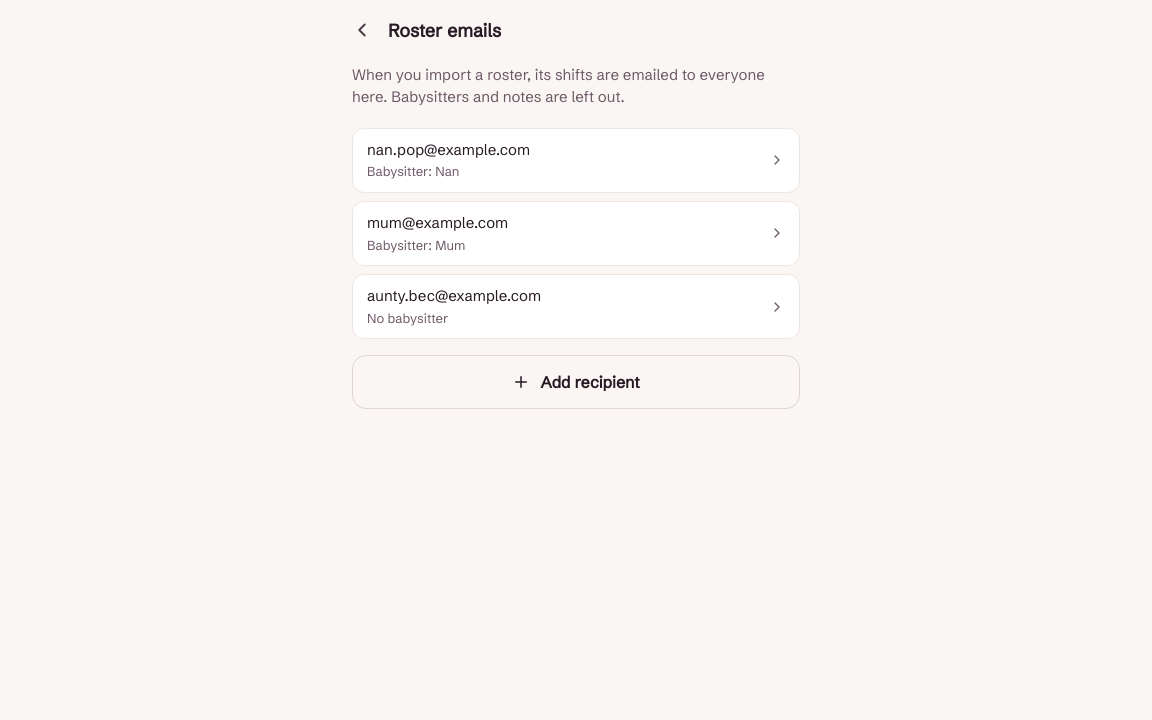
Test: Roster emails screen › keeps the sheet open with the error when the save fails
Expected: the heading "Roster emails" is shown, x1=388 y1=16 x2=501 y2=44
Click the button with aria-label "mum@example.com, babysitter Mum": (438, 222) x1=352 y1=201 x2=800 y2=266
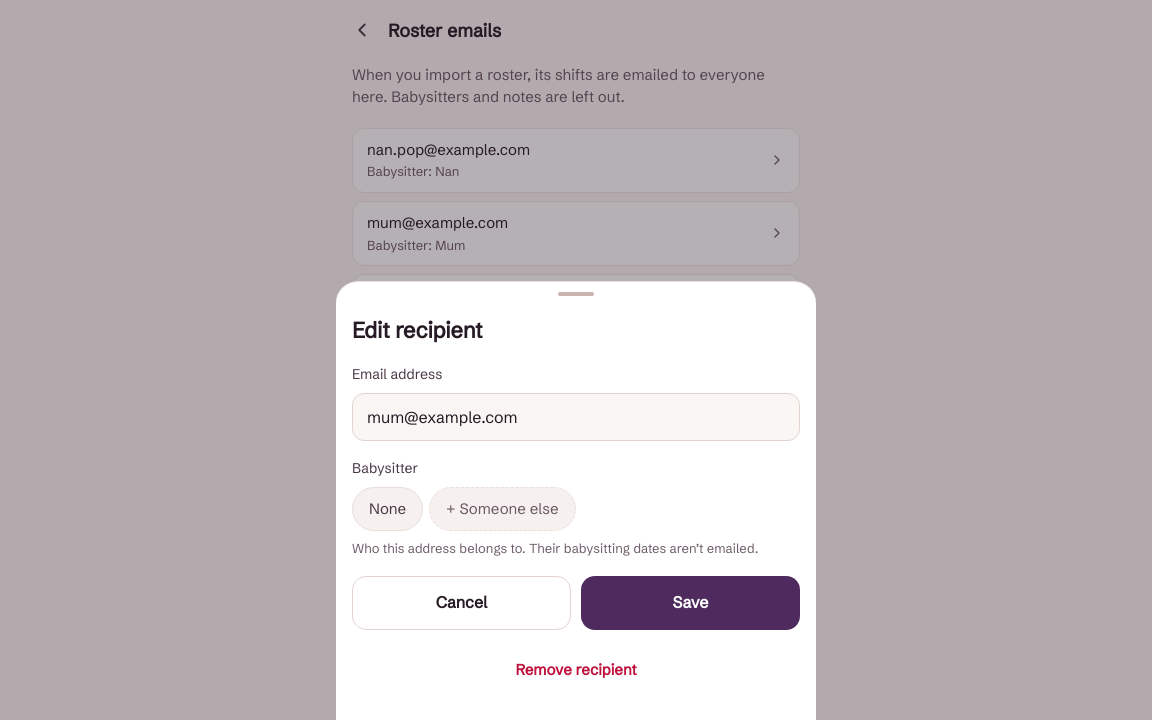
Expected: the dialog is shown, x1=336 y1=281 x2=816 y2=719
Click the radio button labelled "None": (388, 508) x1=352 y1=486 x2=423 y2=530
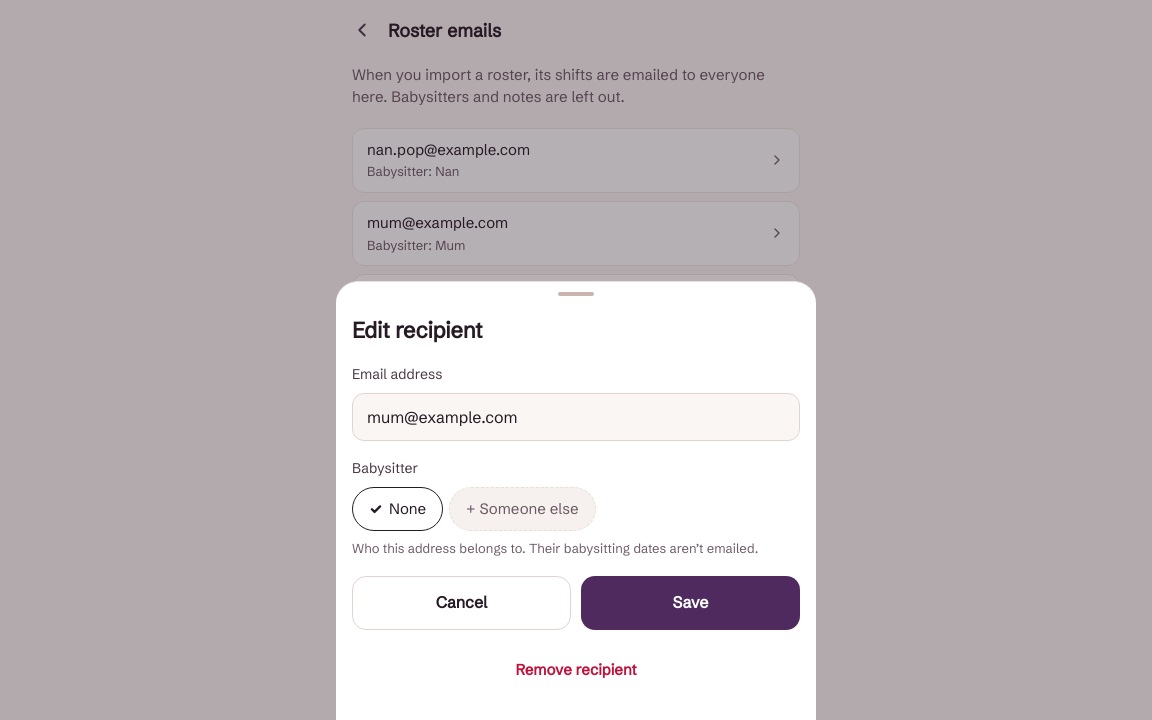
Click the button "Save": (690, 603) x1=581 y1=576 x2=800 y2=630
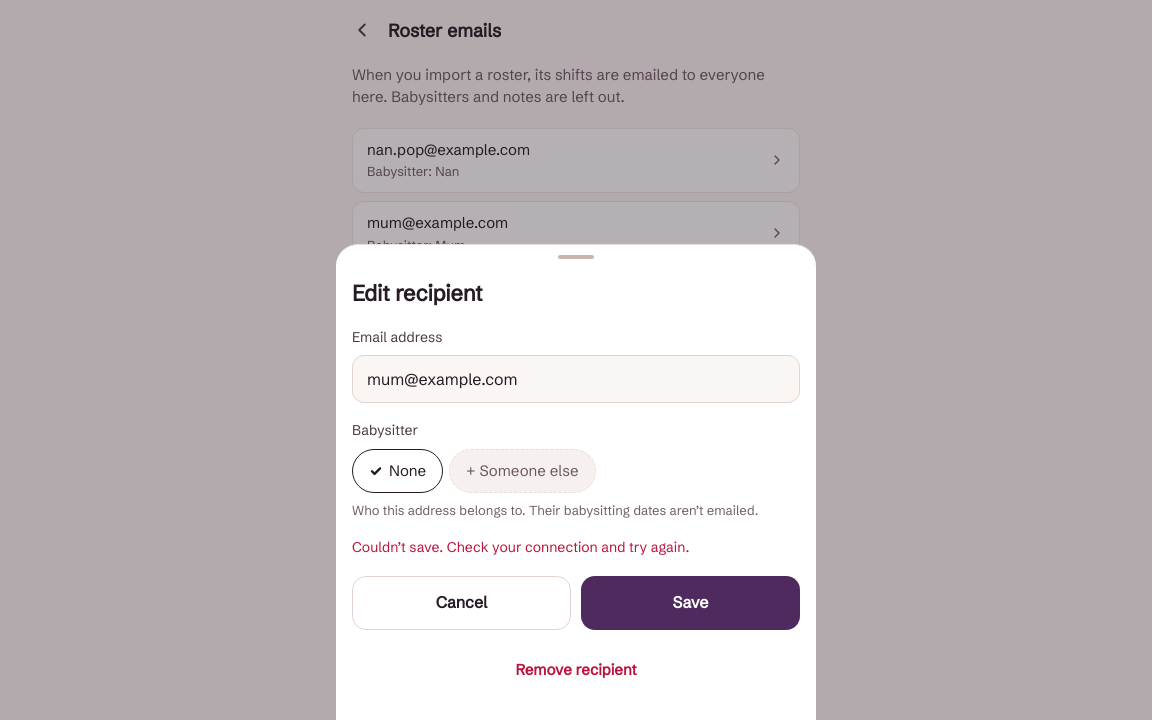
Expected: the button "Save" is enabled, x1=581 y1=576 x2=800 y2=630
Expected: the message reads "Couldn’t save. Check your connection and try again.", x1=352 y1=538 x2=689 y2=556
